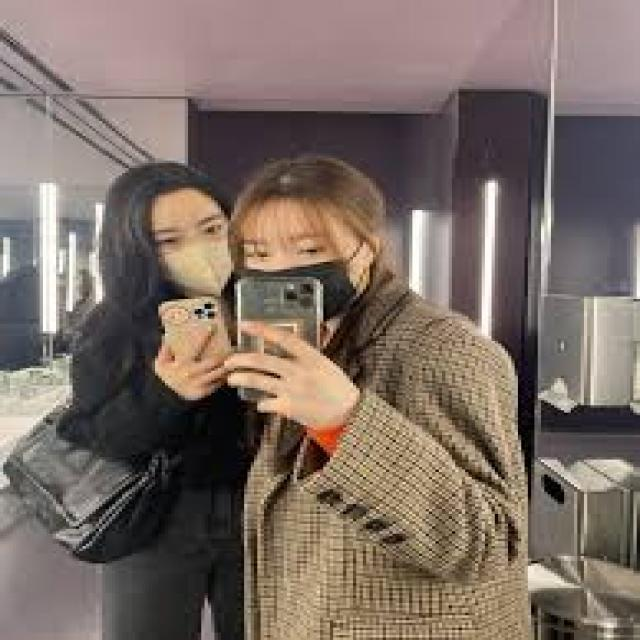Phone: (239, 274, 319, 396), (156, 291, 226, 382)
